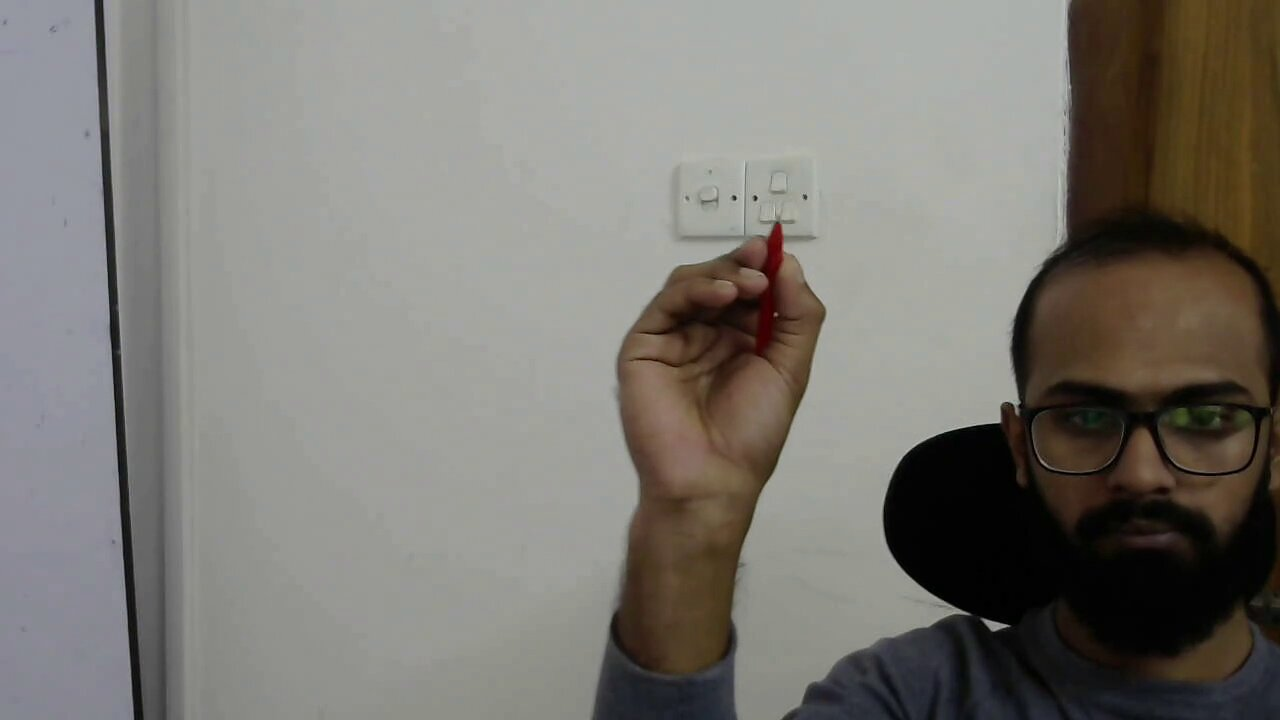pointer: (616, 236, 828, 413)
